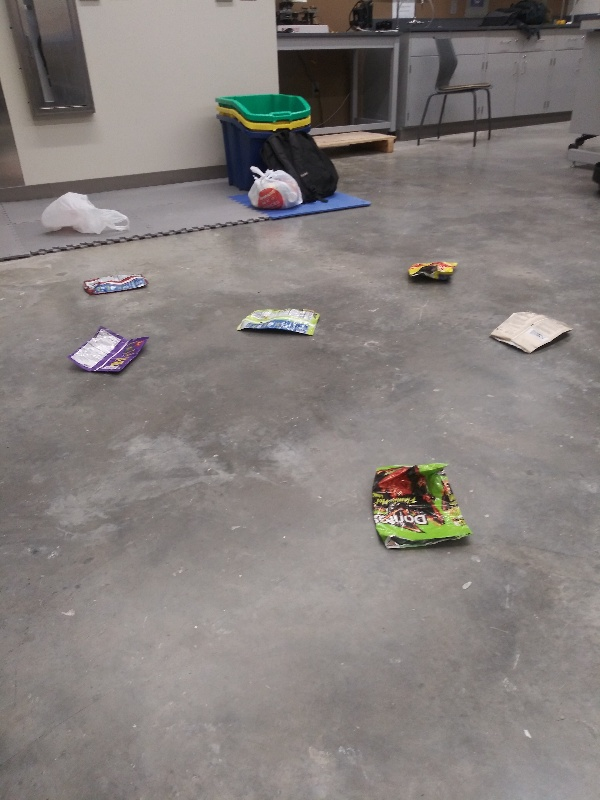bag: (367, 455, 480, 556), (60, 324, 156, 378), (481, 306, 581, 354), (233, 304, 326, 342), (78, 266, 157, 301), (403, 255, 461, 285)
